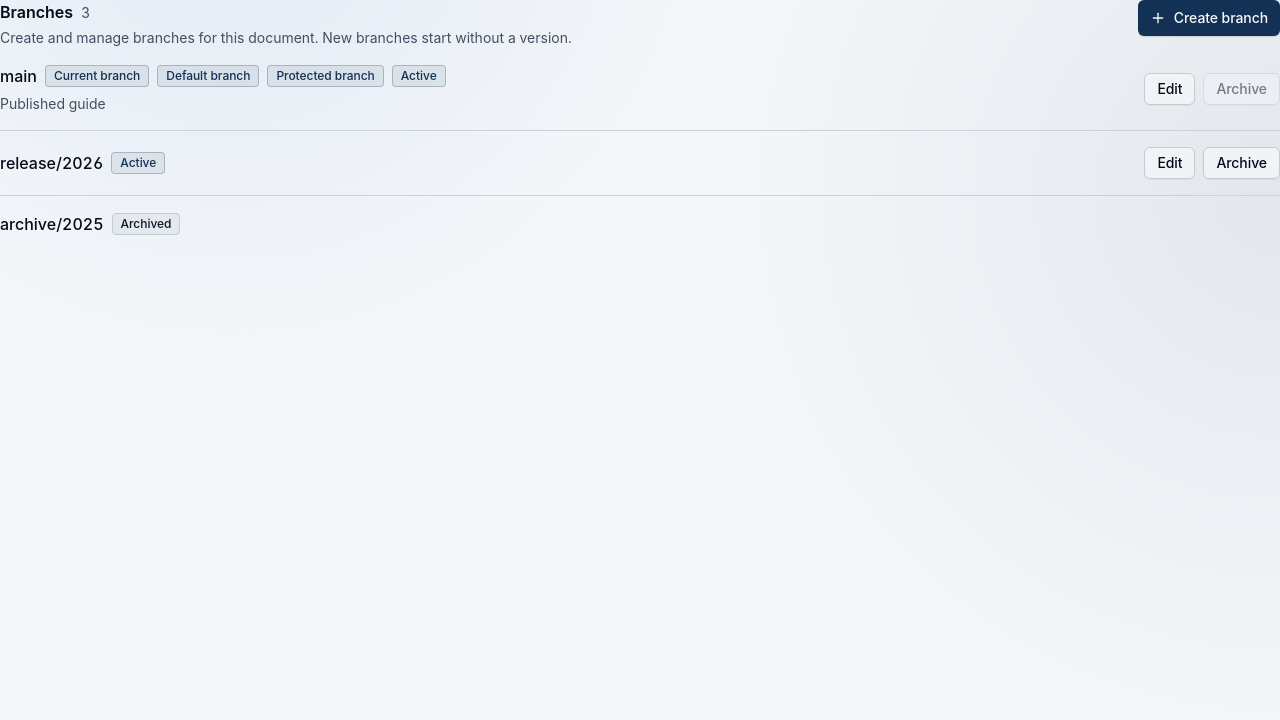
Test case: document branch management › shows branch facts and prevents changes to archived/default branches
Expected: the text "release/2026" is shown, [0, 151, 103, 175]
Expected: the text "Default branch" is shown, [157, 65, 259, 87]
Click the button "Edit" in the row of "main". click: click(1170, 89)
box: [1144, 73, 1196, 105]
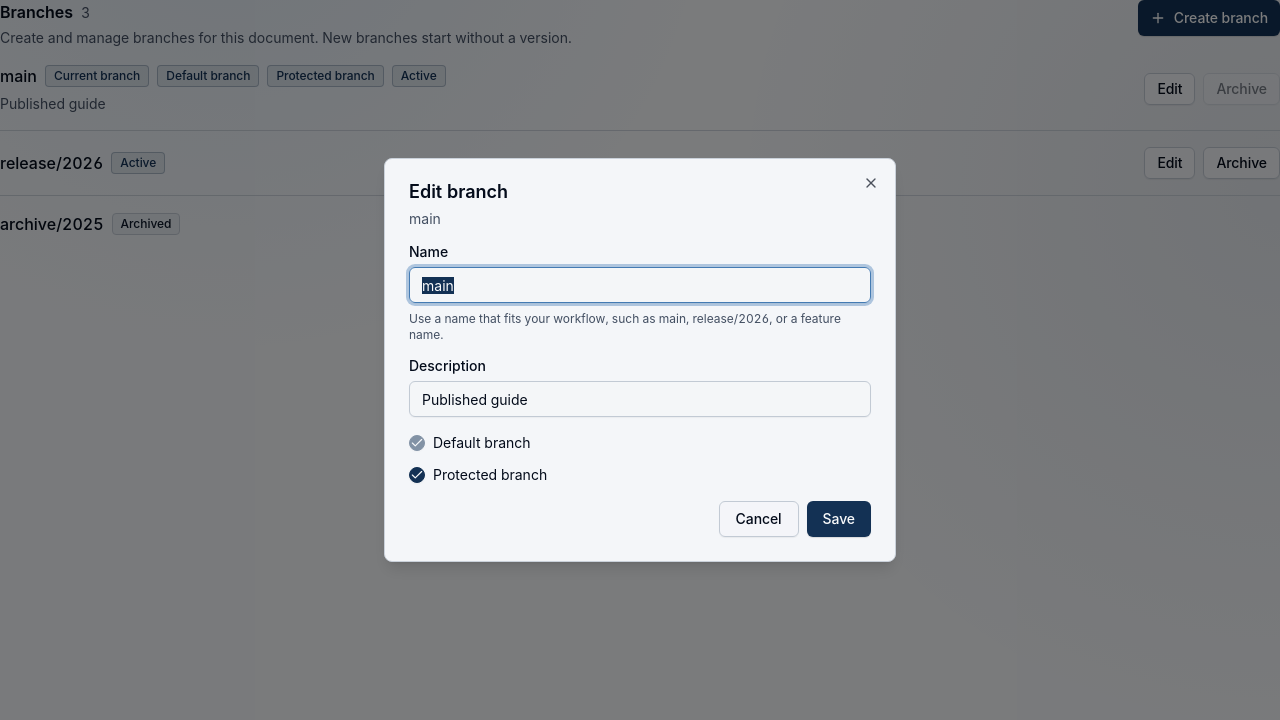
Expected: the 1st checkbox named "Default branch" is disabled, [409, 435, 425, 451]
Expected: the 2nd checkbox named "Protected branch" is checked, [409, 467, 425, 483]
